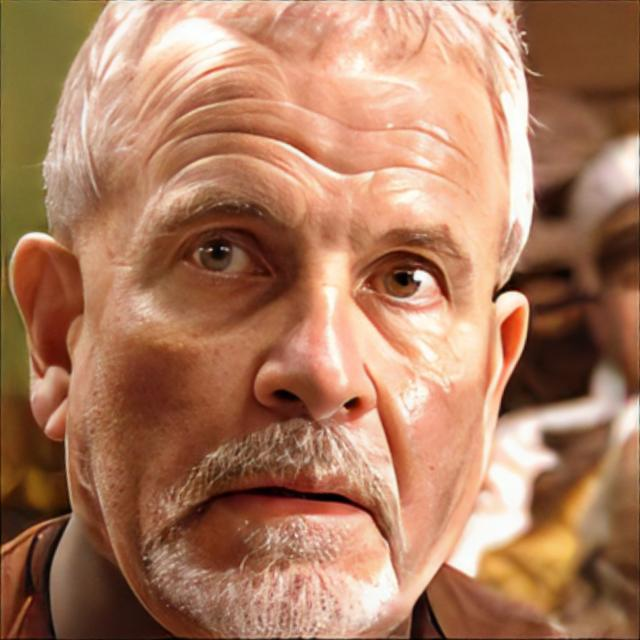fear: (88, 15, 508, 638)
